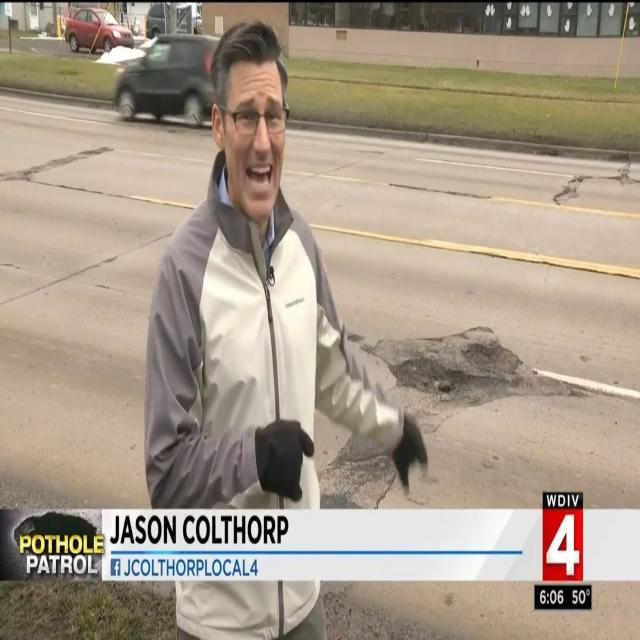pothole: (375, 326, 541, 433), (321, 585, 455, 640), (318, 437, 396, 508)
